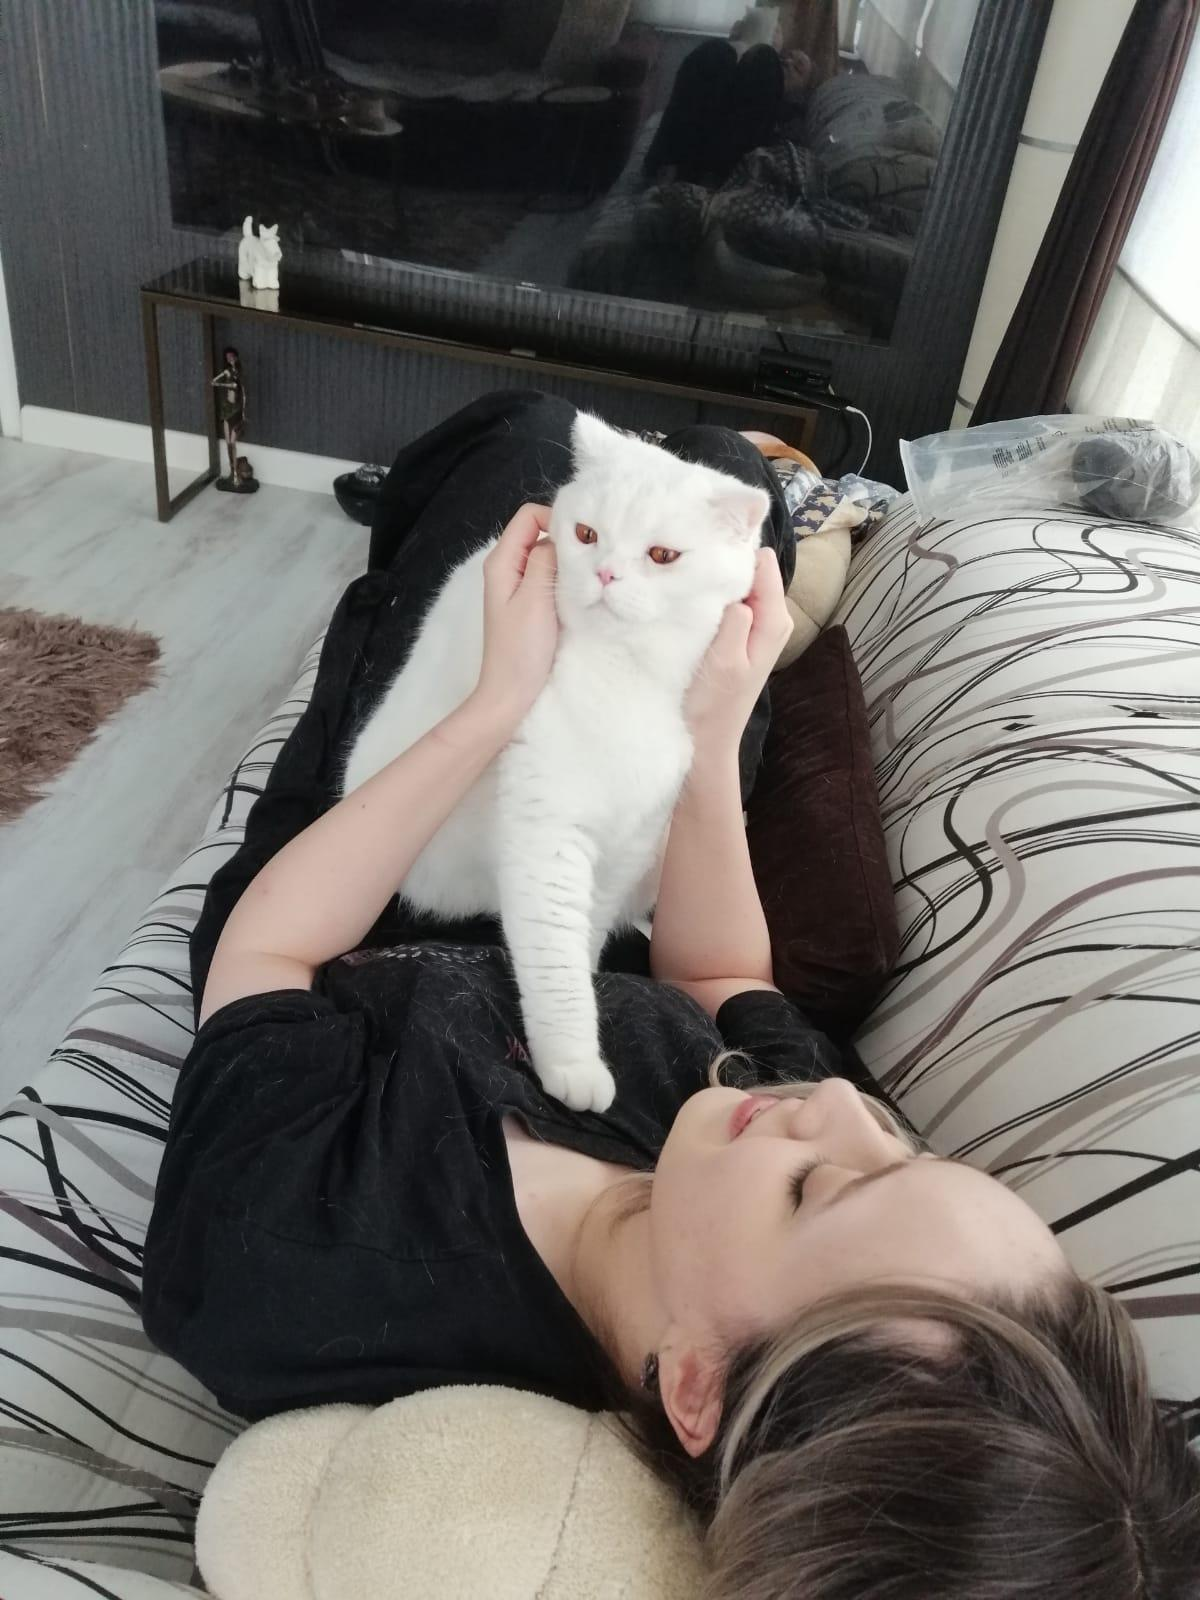kedo: (500, 406, 771, 1104)
